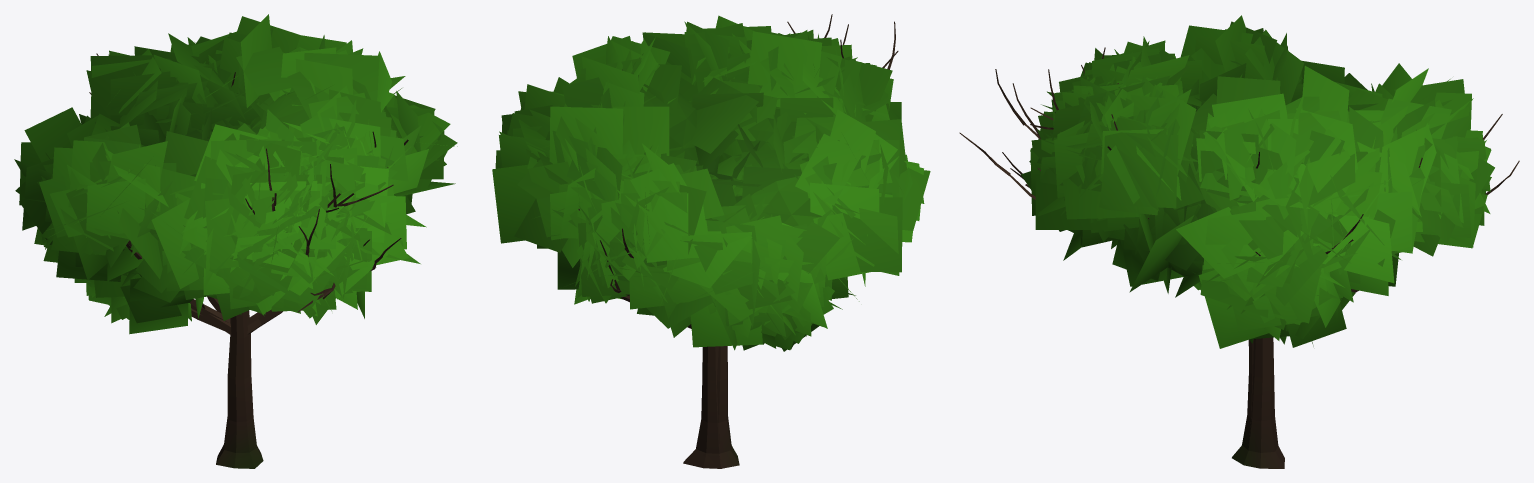
File: oak.glb
3 renders of one model, left to right at view 1: azimuth 30°, elevation 25°; view 2: azimuth 150°, elevation 25°; view 3: azimuth 270°, elevation 25°, orthographic. The views are drawn at different scales.
Parts seen in each view (by area): view 1: tree_oak_1, tree_oak_2, tree_oak_0; view 2: tree_oak_2, tree_oak_0, tree_oak_1; view 3: tree_oak_0, tree_oak_2, tree_oak_1.
Boxes of the visible parts, x1,y1,x2,y2 form: tree_oak_1: (45,14,397,468); tree_oak_2: (14,31,420,468); tree_oak_0: (15,16,457,468); tree_oak_2: (492,24,930,468); tree_oak_0: (501,15,899,468); tree_oak_1: (562,14,924,468); tree_oak_0: (995,60,1519,468); tree_oak_2: (959,25,1475,467); tree_oak_1: (1030,15,1471,468).
Bounding box in the file's own units: 11.57 × 10.84 × 13.63.
